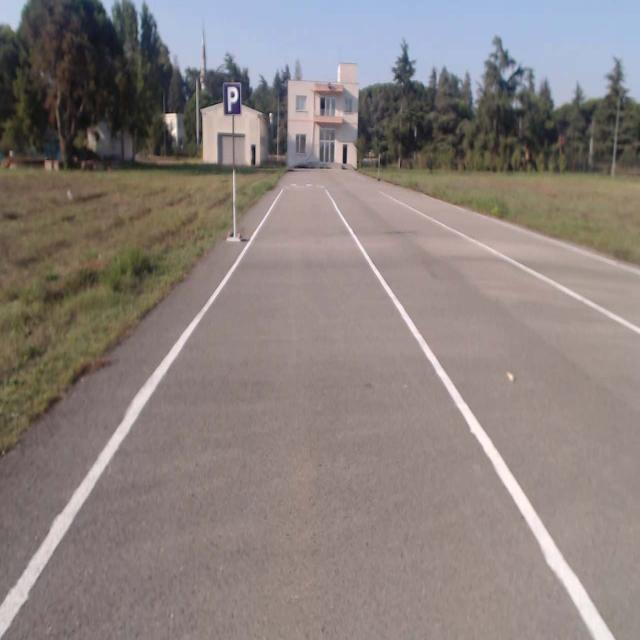park: (223, 82, 241, 114)
